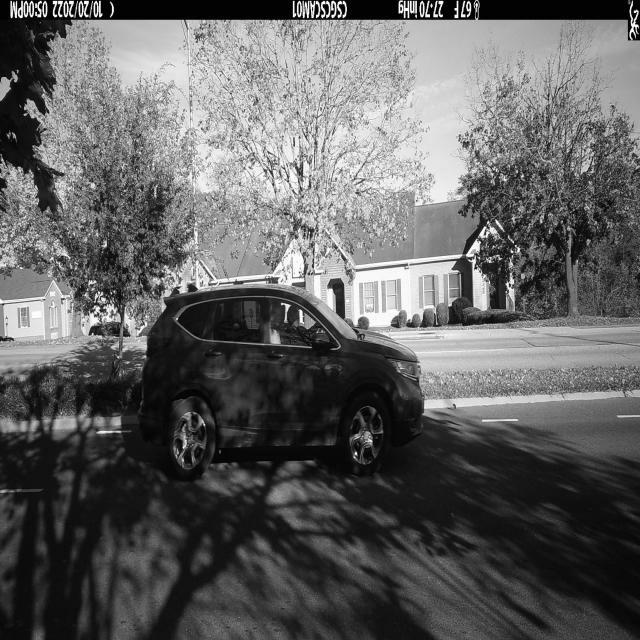SUV: (137, 286, 425, 482)
